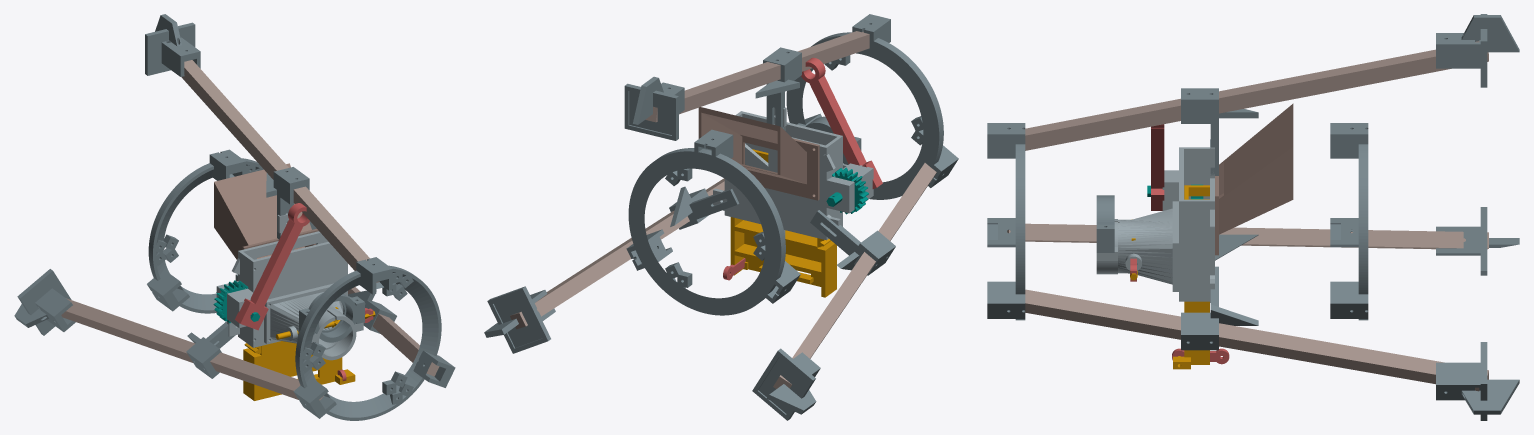
The model's file is conjunto_alimento.glb.
3 views of the same model, side by side, from view 1: azimuth 30°, elevation 25°; view 2: azimuth 150°, elevation 25°; view 3: azimuth 270°, elevation 25° (orthographic). The views are drawn at different scales.
Parts seen in each view (by area): view 1: world; view 2: world; view 3: world.
Boxes of the visible parts, x1,y1,x2,y2 form: world: [14, 14, 455, 420]; world: [484, 14, 958, 420]; world: [987, 14, 1519, 420].
Size of the model in its own units: 495 by 444 by 644.
